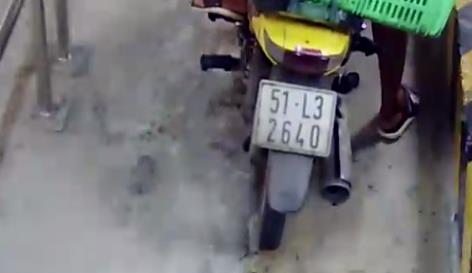lisence: (250, 79, 337, 159)
